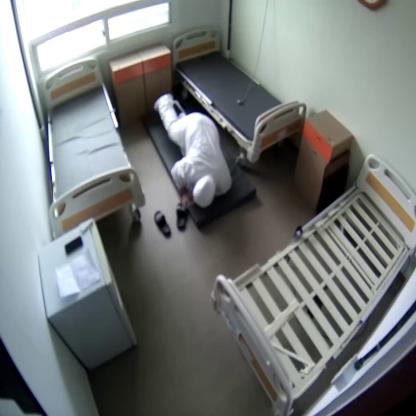Person: (154, 92, 231, 209)
